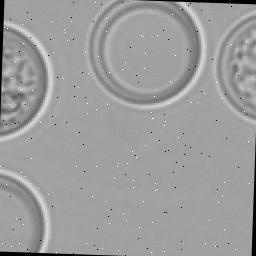picoshell: (88, 0, 206, 109), (2, 22, 52, 140), (214, 10, 256, 122), (0, 168, 51, 251)
